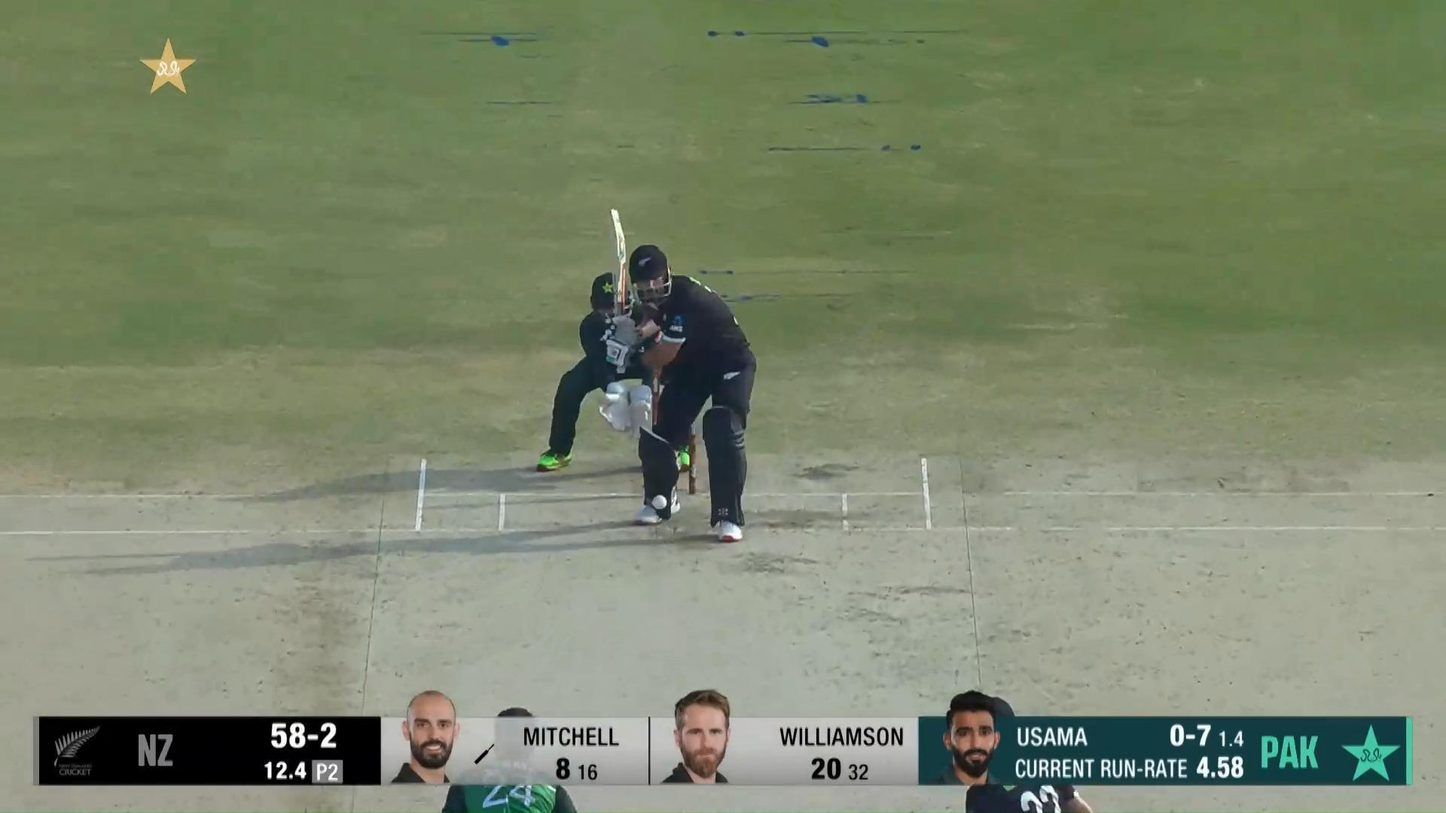BM 1: (598, 209, 756, 543)
BO: (441, 706, 579, 813)
